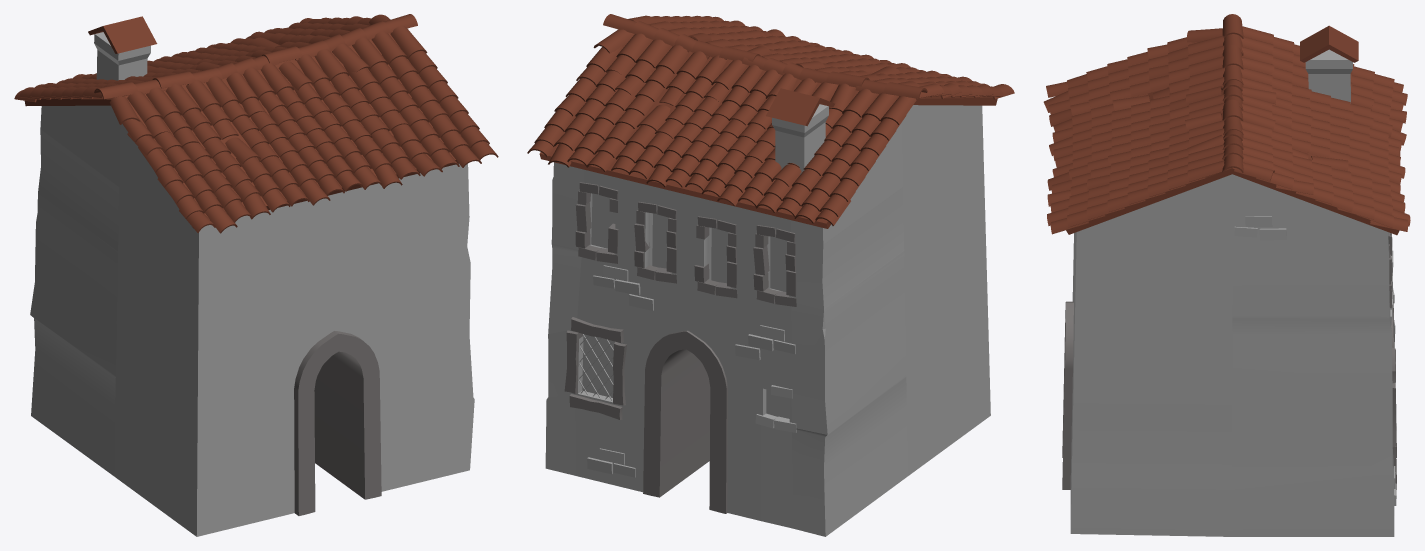
The model's file is SM_BridgeHouse01.fbx.
The picture shows the model from 3 angles, left to right: view 1: azimuth 30°, elevation 25°; view 2: azimuth 150°, elevation 25°; view 3: azimuth 270°, elevation 25°; orthographic projection. The views are drawn at different scales.
Parts seen in each view (by area): view 1: SM_BridgeHouse_01; view 2: SM_BridgeHouse_01; view 3: SM_BridgeHouse_01.
Boxes of the visible parts, x1=… form: SM_BridgeHouse_01: x1=14, y1=14, x2=498, y2=536; SM_BridgeHouse_01: x1=527, y1=14, x2=1014, y2=536; SM_BridgeHouse_01: x1=1043, y1=14, x2=1410, y2=536.
Bounding box in the file's own units: 1686 × 2075 × 1741.
